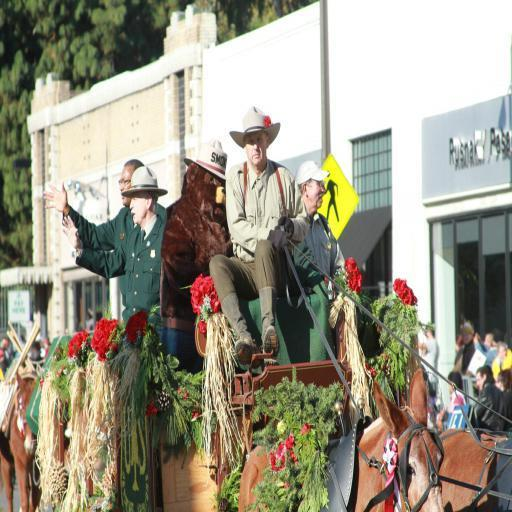horse: (238, 368, 447, 512), (432, 428, 512, 512), (0, 373, 40, 512)
